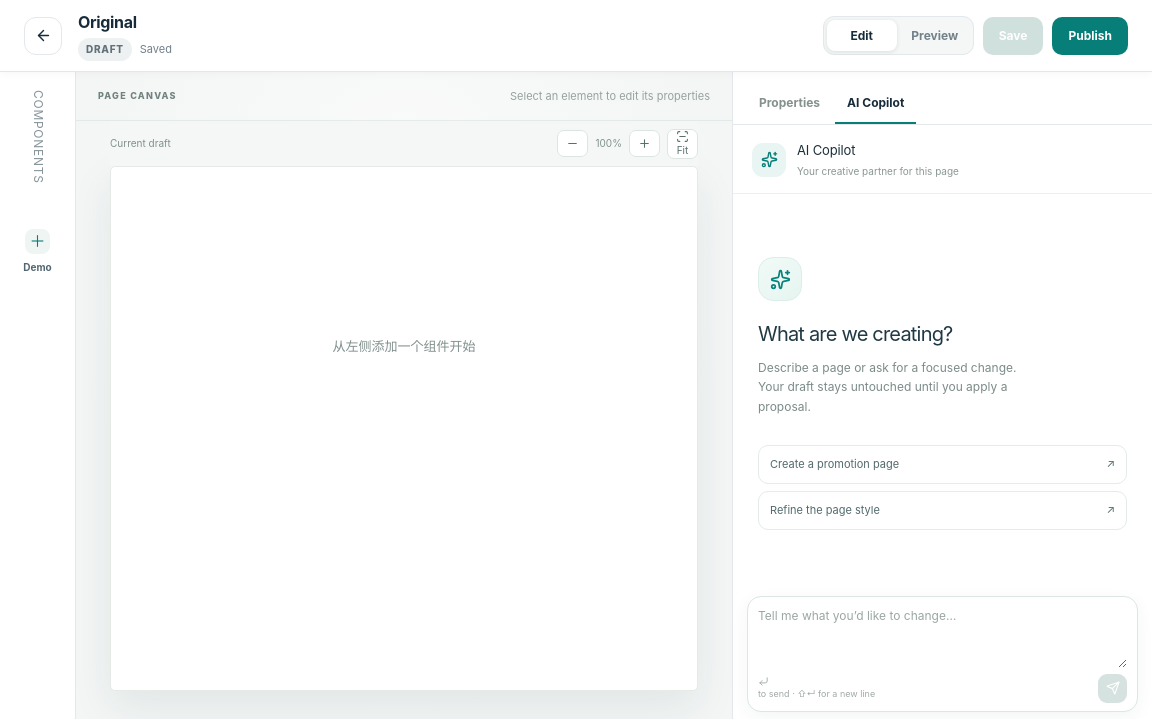
Test: EditorPage › enables Save when adding a component changes the draft
Check: the field named "Page title" is shown, box x1=78 y1=10 x2=398 y2=34
Check: the button "Save" is disabled, box x1=983 y1=16 x2=1044 y2=54
Click the button "Demo": (38, 252) x1=8 y1=220 x2=67 y2=284
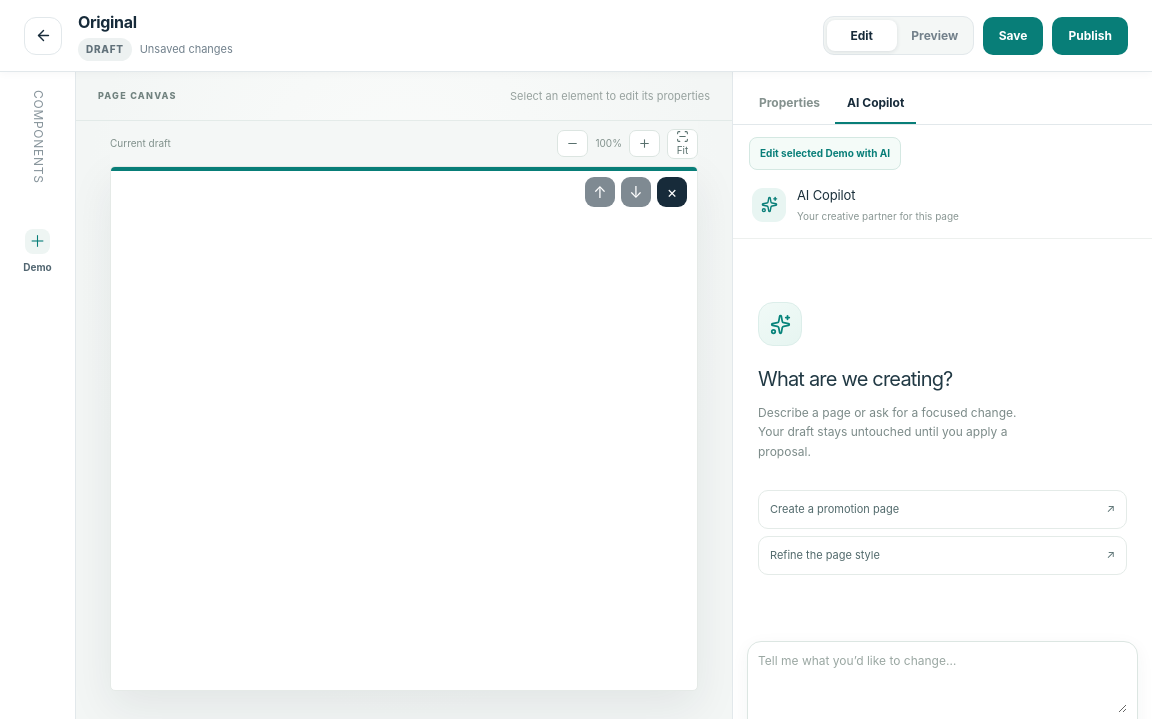
Check: the button "Save" is enabled, box x1=983 y1=16 x2=1044 y2=54
